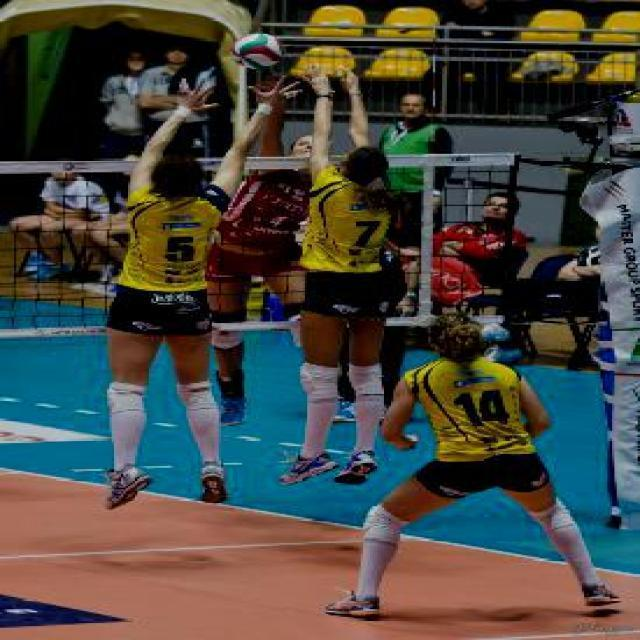volleyball: (234, 33, 282, 71)
